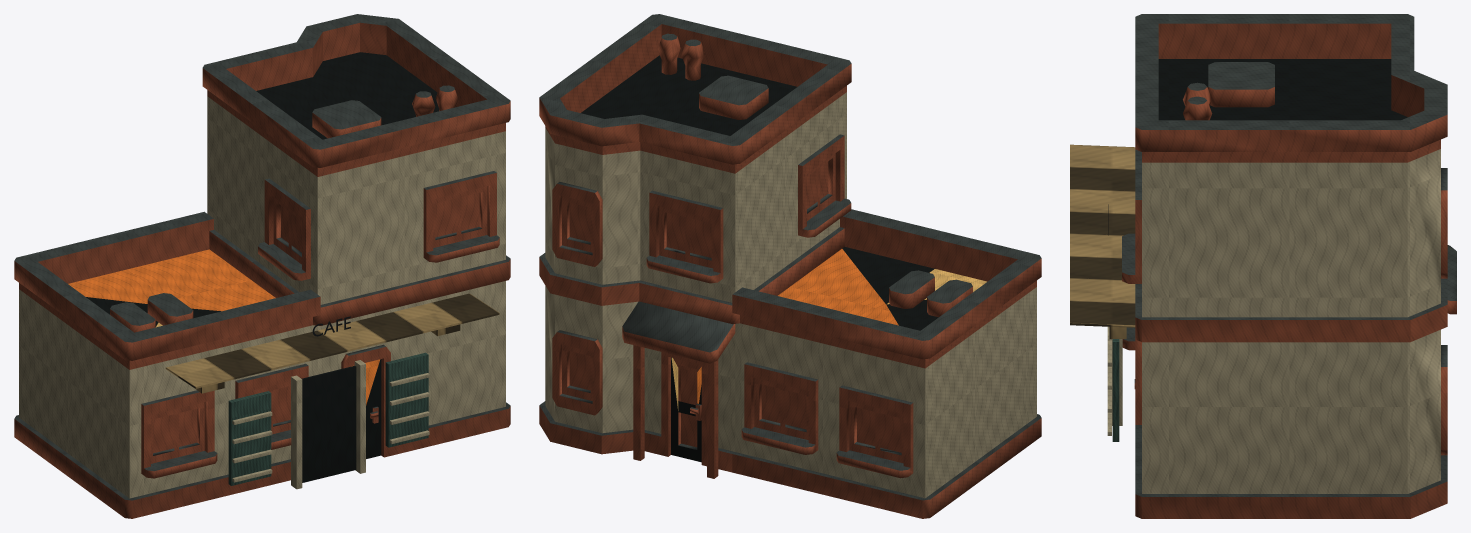
Rendered from shopfront-b-lod.glb.
The picture shows the model from 3 angles, left to right: view 1: azimuth 30°, elevation 25°; view 2: azimuth 150°, elevation 25°; view 3: azimuth 270°, elevation 25°; orthographic projection. The views are drawn at different scales.
Parts seen in each view (by area): view 1: shopfront-b-original-structure, detail-awning, shop-recessed-entry, shop-shutter.001, shop-shutter, shop-door-jamb, shop-door-jamb.001; view 2: shopfront-b-original-structure; view 3: shopfront-b-original-structure, detail-awning, shop-shutter.001, shop-door-jamb.001.
Part boxes in pixels (bbox=[...]): shopfront-b-original-structure: bbox=[14, 14, 510, 518]; detail-awning: bbox=[165, 293, 499, 393]; shop-recessed-entry: bbox=[301, 365, 356, 482]; shop-shutter.001: bbox=[385, 352, 428, 447]; shop-shutter: bbox=[228, 391, 271, 485]; shop-door-jamb: bbox=[291, 375, 302, 489]; shop-door-jamb.001: bbox=[354, 360, 365, 473]; shopfront-b-original-structure: bbox=[539, 14, 1041, 518]; shopfront-b-original-structure: bbox=[1122, 14, 1456, 518]; detail-awning: bbox=[1070, 144, 1135, 338]; shop-shutter.001: bbox=[1112, 339, 1119, 441]; shop-door-jamb.001: bbox=[1109, 327, 1122, 425].
Bounding box in the file's own units: 8 × 6.5 × 5.77.
Materials: 9 (9 with a texture image).
